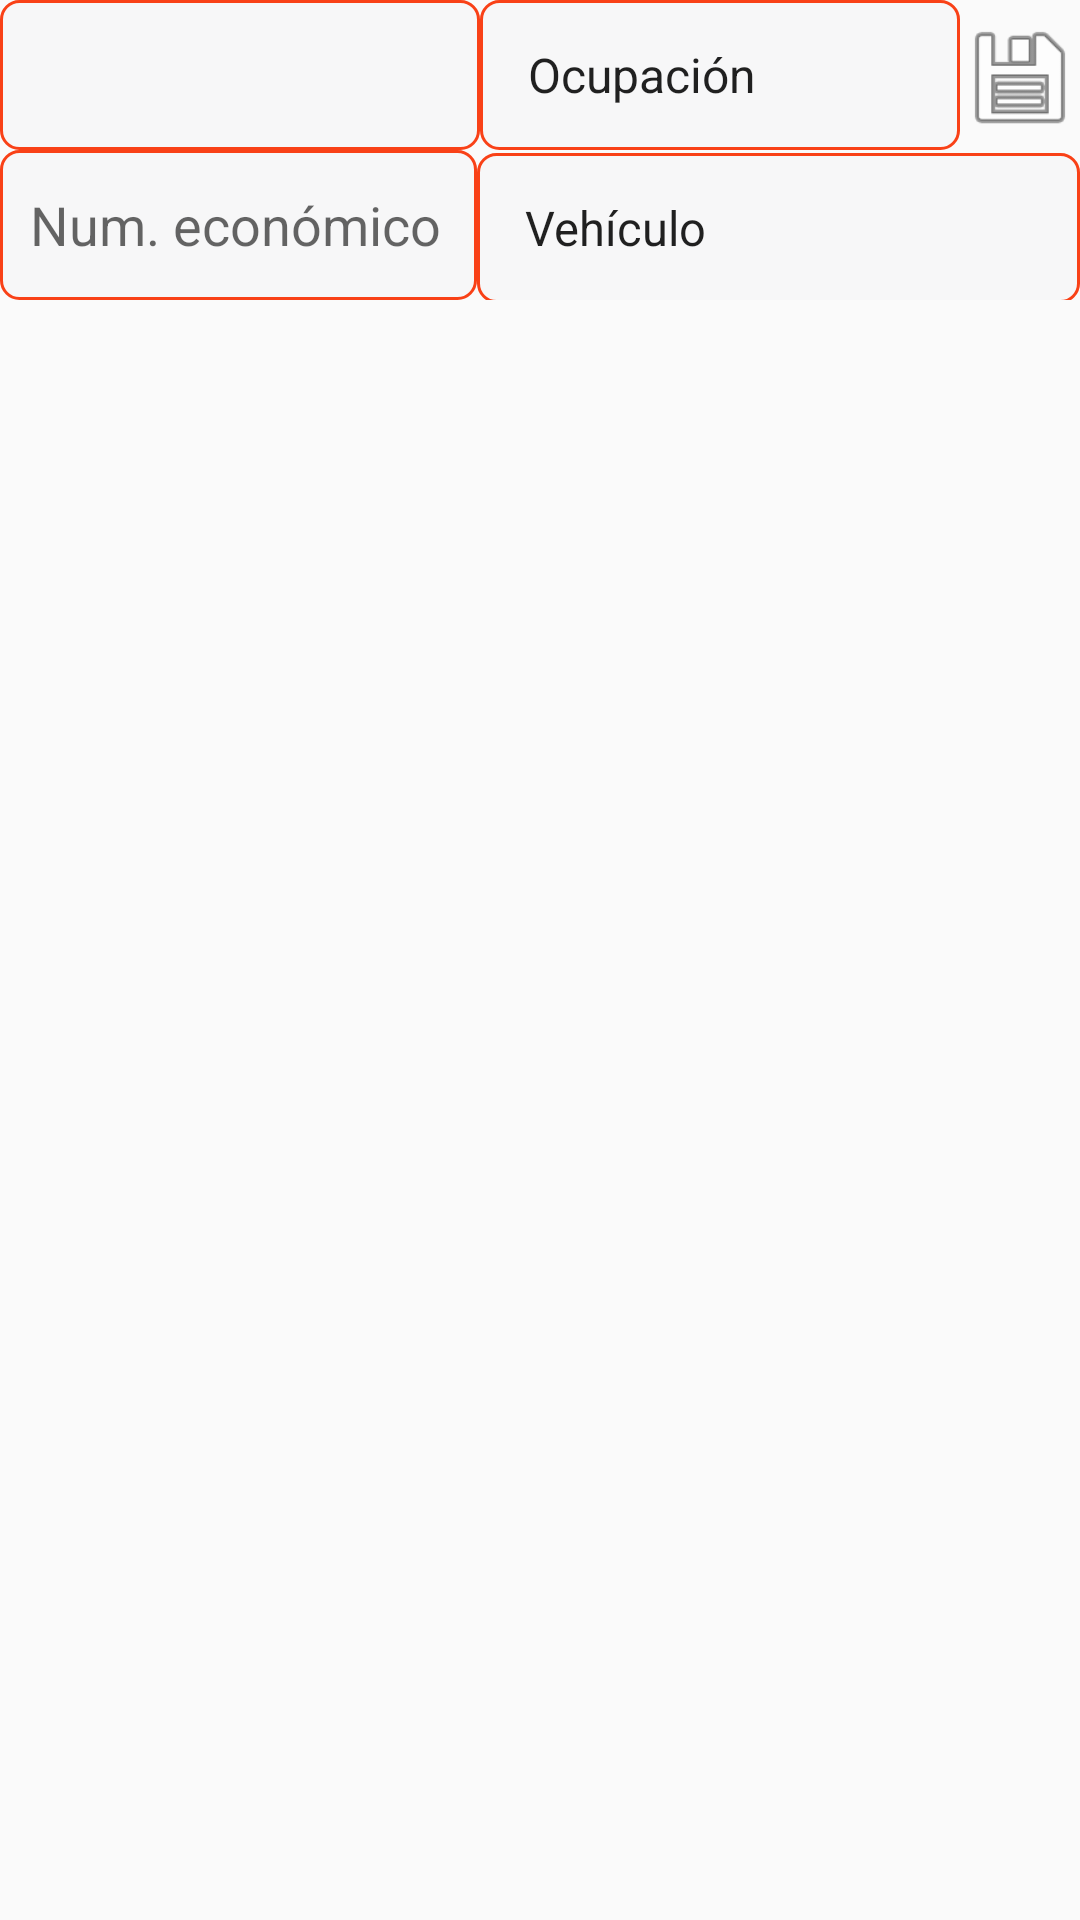

Screen size 1080px x 1920px. Icon name, then its box in pixels as bbox=(x1, y1, x2, y2):
save: bbox=(975, 32, 1065, 124)
